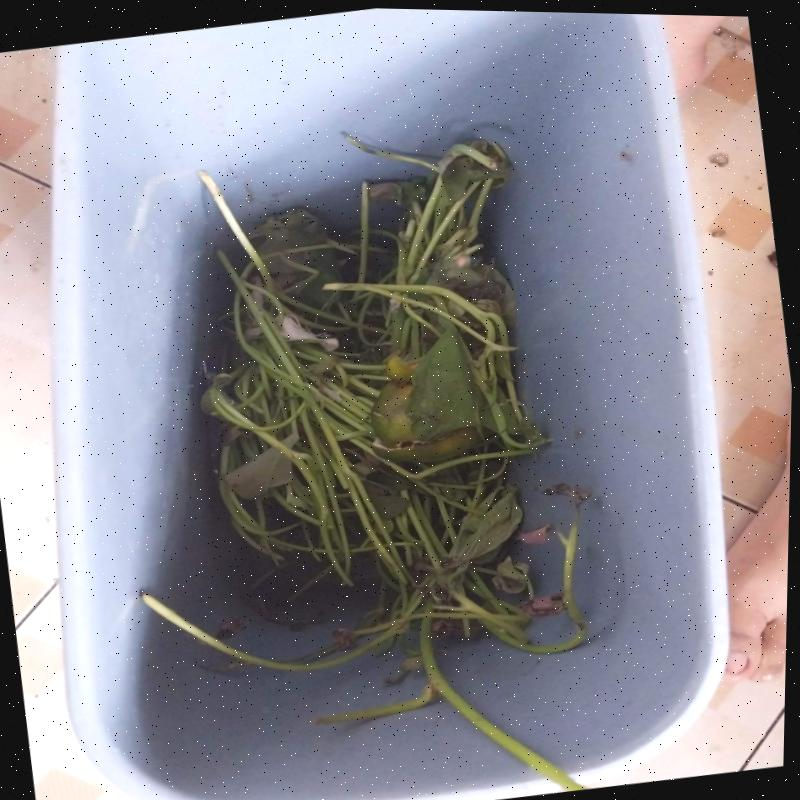vegetable peels: (195, 130, 586, 792)
